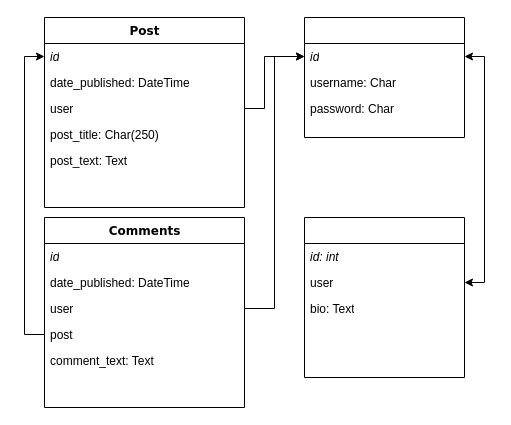
The diagram is 511 pixels wide and 425 high, and some of its shapes have lost their labels. Here are the shapes that lost their labels. From the top down, the box of each, then its label:
(304, 16, 464, 138): User (builtin)
(304, 216, 464, 378): BlogUser
